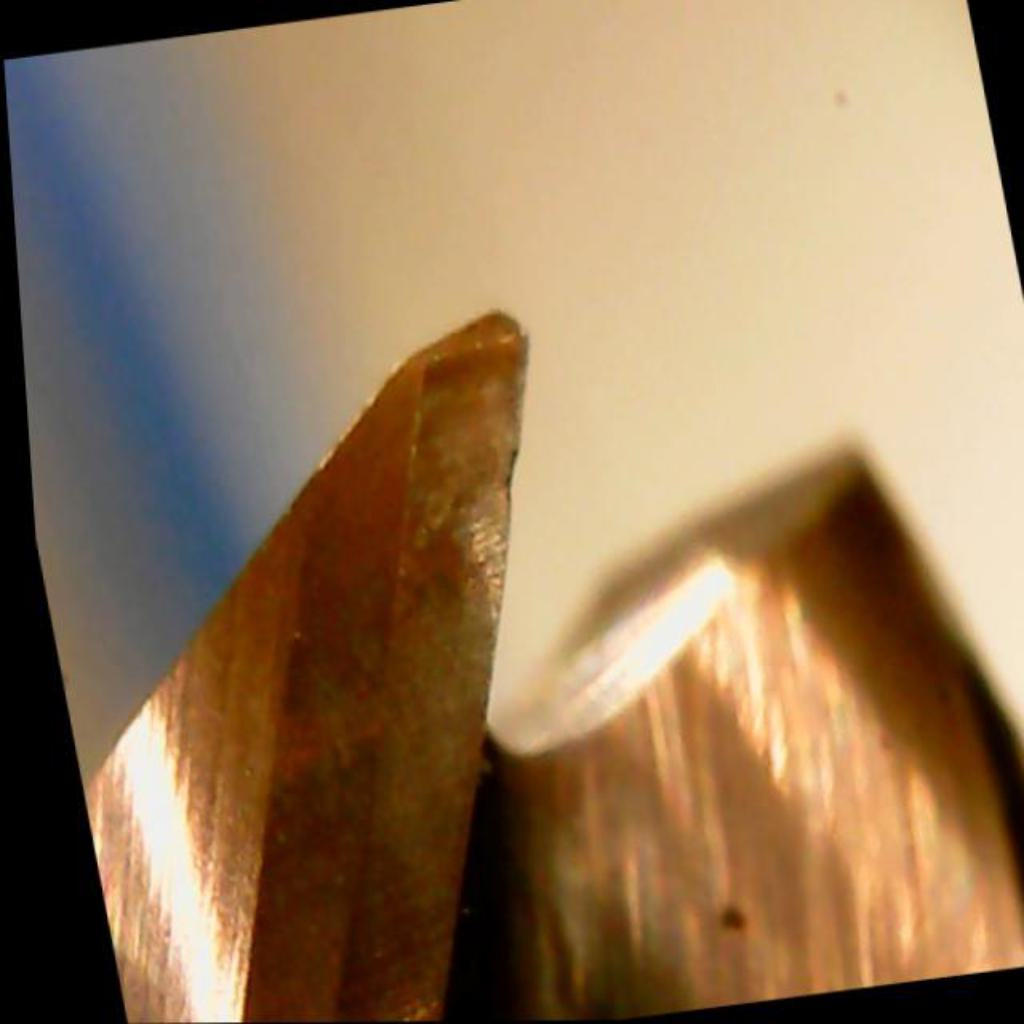Tool-wear-class-1: (325, 293, 600, 601)
